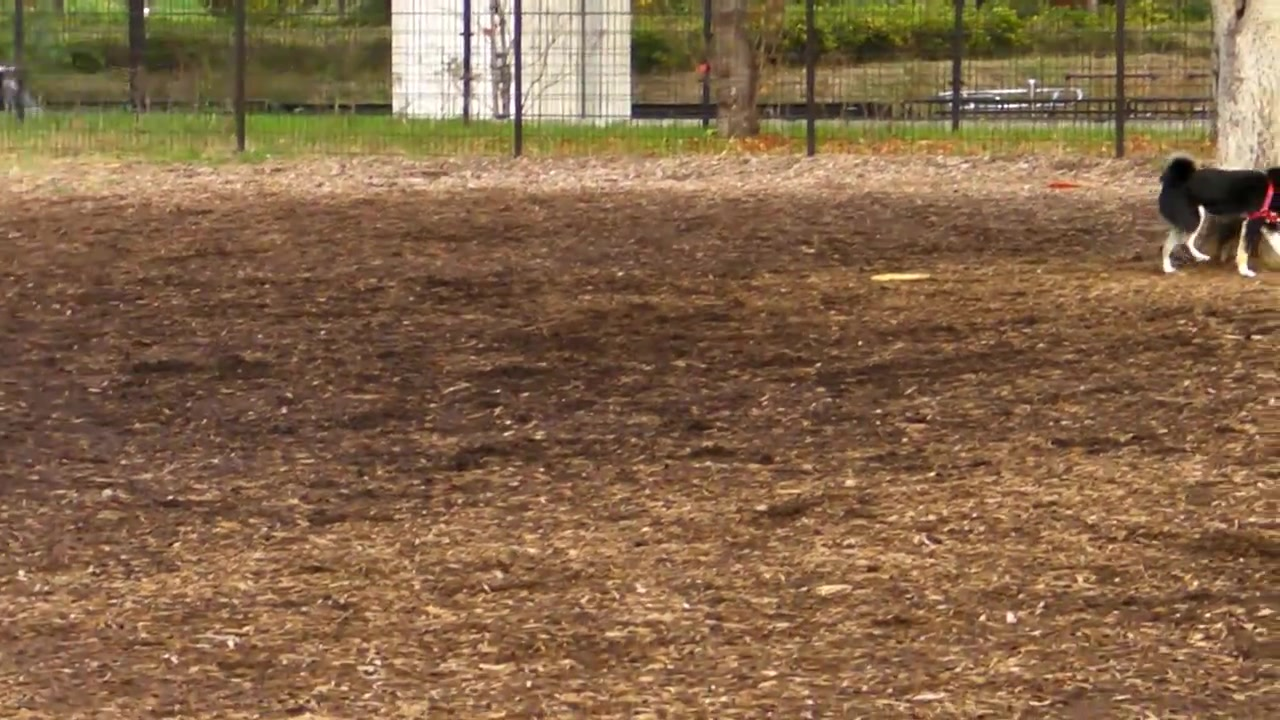dog: (1157, 158, 1280, 279)
